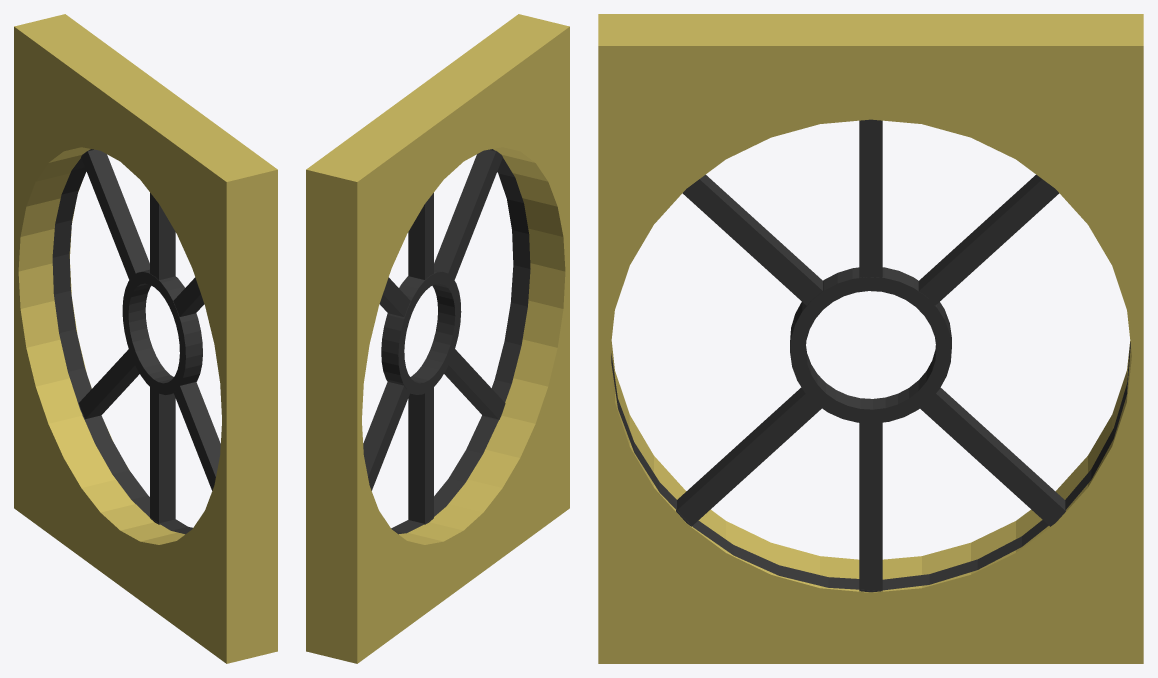
File: room_window.fbx
3 renders of one model, left to right at view 1: azimuth 30°, elevation 25°; view 2: azimuth 150°, elevation 25°; view 3: azimuth 270°, elevation 25°, orthographic. The views are drawn at different scales.
Visible parts, largest first — view 1: room_window; view 2: room_window; view 3: room_window.
Boxes of the visible parts, bbox=[...] form: room_window: bbox=[14, 14, 277, 663]; room_window: bbox=[306, 14, 569, 663]; room_window: bbox=[598, 14, 1143, 663].
Size of the model in its own units: 55.98 by 501 by 400.
